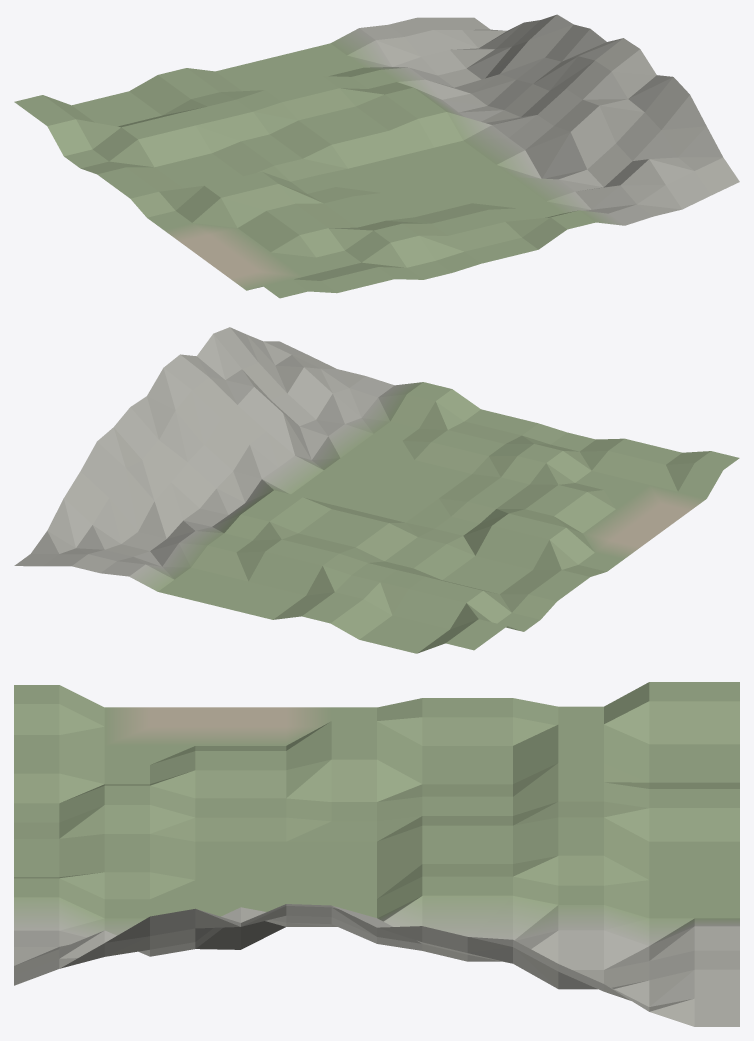
3 views of the same model, one above another, from view 1: azimuth 30°, elevation 25°; view 2: azimuth 150°, elevation 25°; view 3: azimuth 270°, elevation 25° (orthographic). The views are drawn at different scales.
Size of the model in its own units: 32 by 6.02 by 32.
